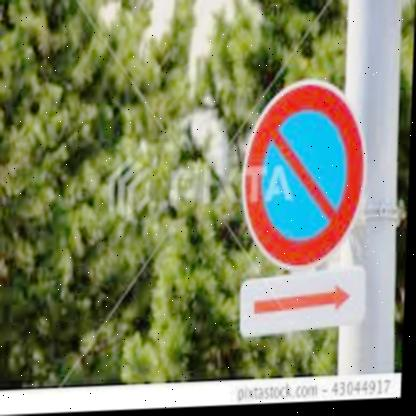No parking: (244, 86, 368, 269)
